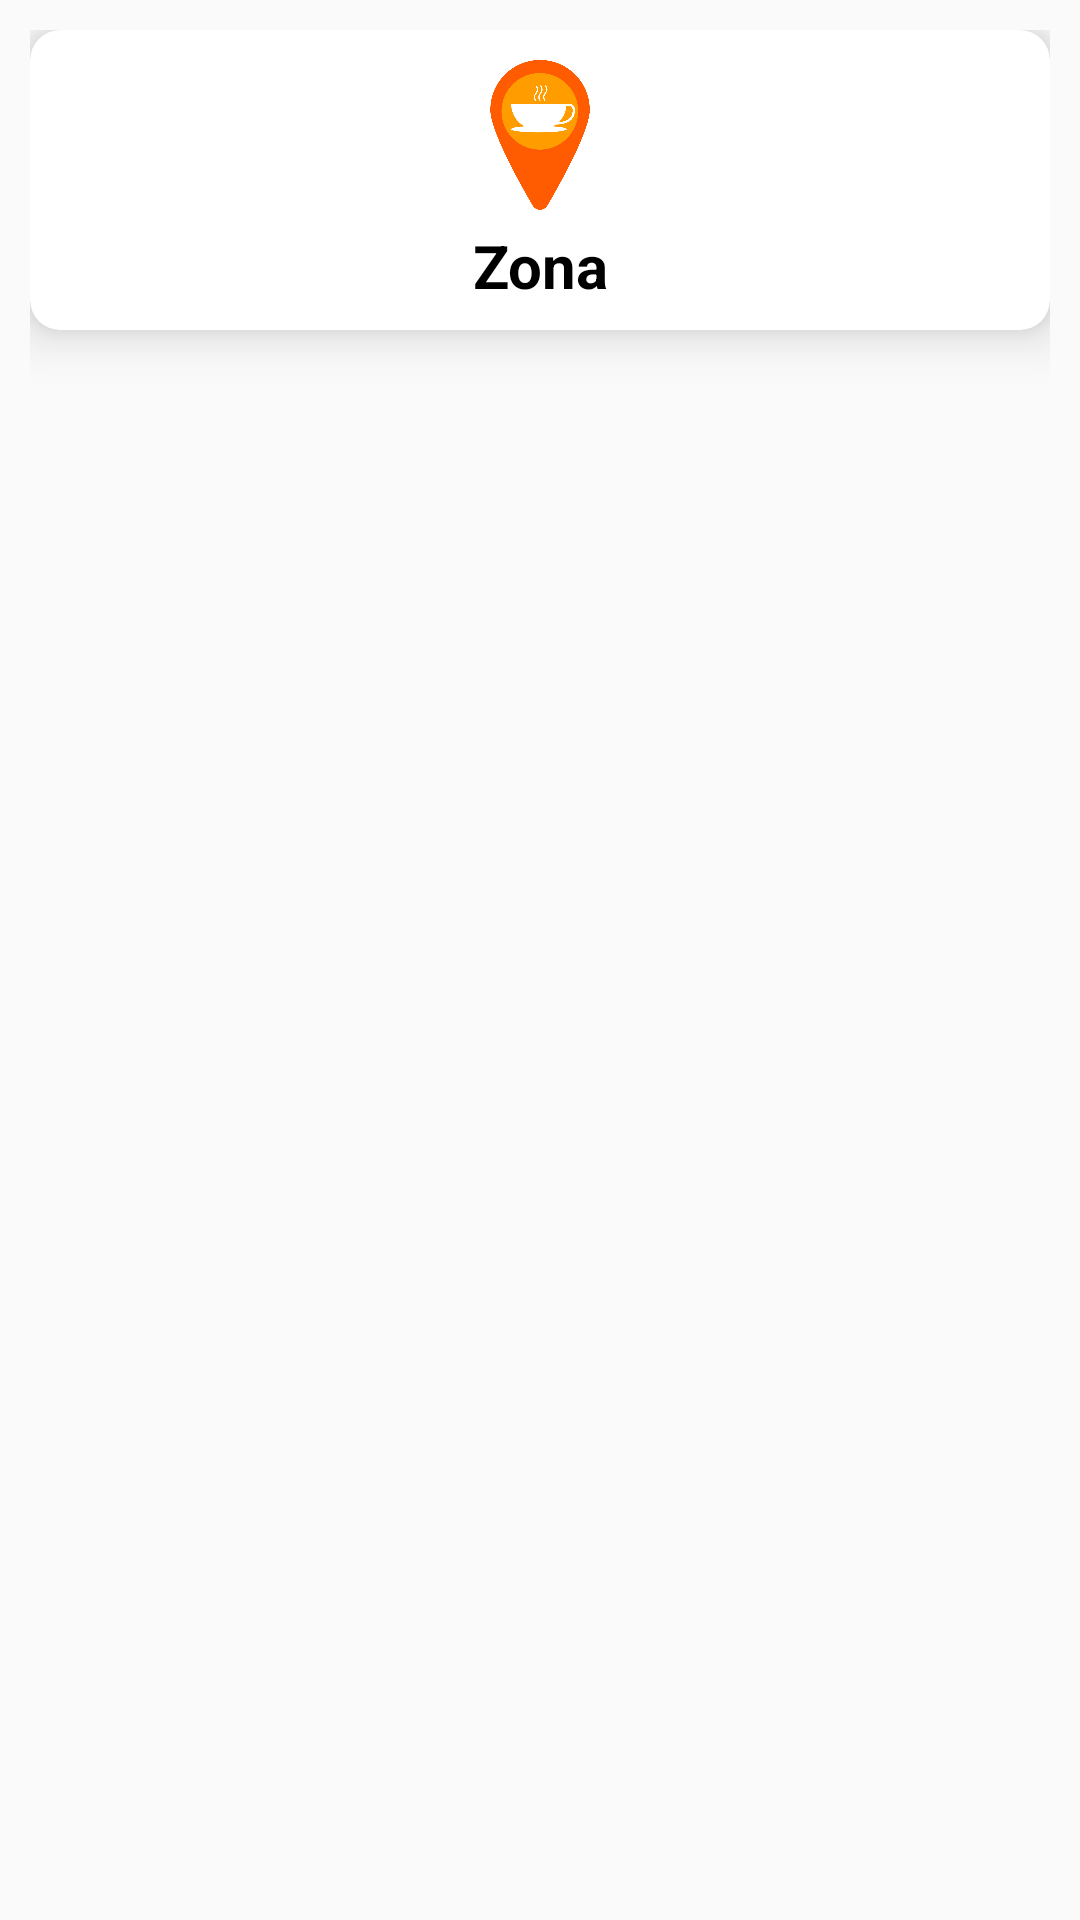

Named icons in this screenshot (1080px x 1920px) and their bounding boxes, (x1, y1, x2, y2):
hubicacion cafe: (490, 60, 590, 210)
